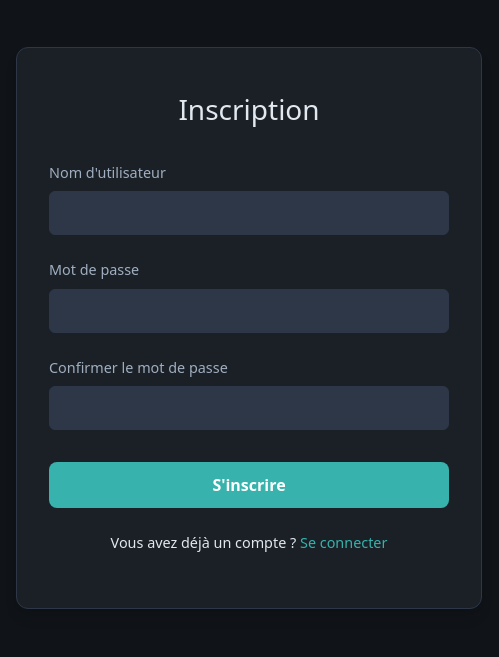
Test: RegisterPage › devrait afficher une erreur générique pour une autre défaillance de l'API
Note: Simulation de la saisie et du clic
Type "someuser" into the field labelled "Nom d'utilisateur". click: (249, 213)
box: x1=49 y1=191 x2=449 y2=235
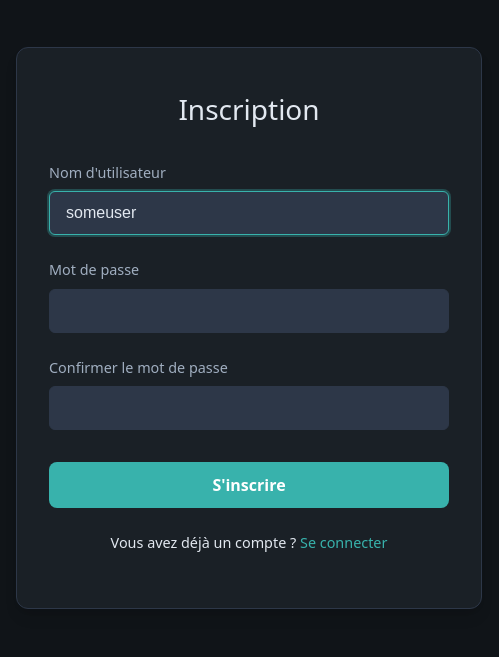
Type "password123" into the password field labelled "Mot de passe". click: (249, 311)
box: x1=49 y1=289 x2=449 y2=333
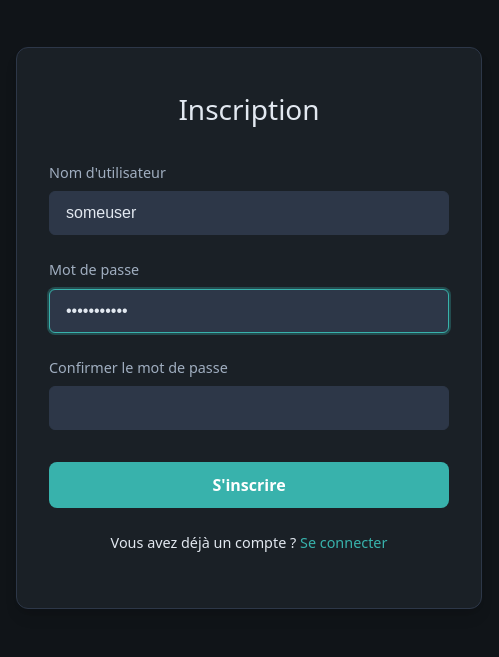
Type "password123" into the password field labelled "Confirmer le mot de passe". click: (249, 408)
box: x1=49 y1=386 x2=449 y2=430
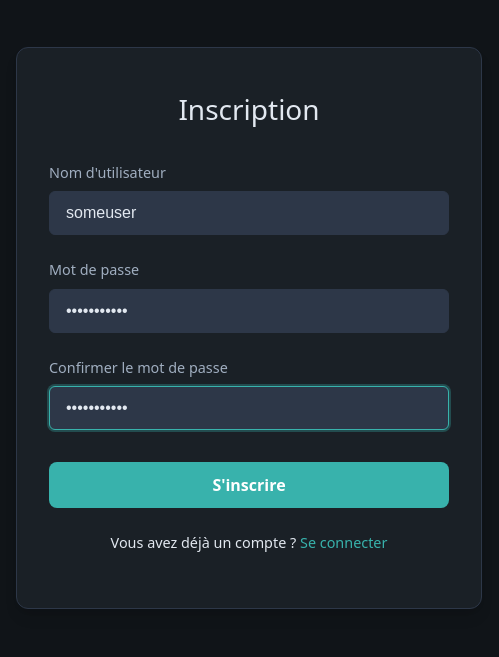
Click the button "S'inscrire". click: (249, 485)
box: x1=49 y1=462 x2=449 y2=508
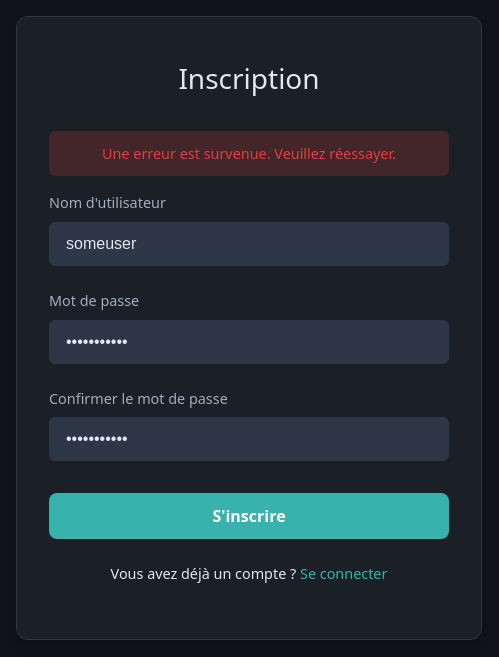
Result: the text "Une erreur est survenue. Veuillez réessayer." is shown at x1=49 y1=131 x2=449 y2=176
